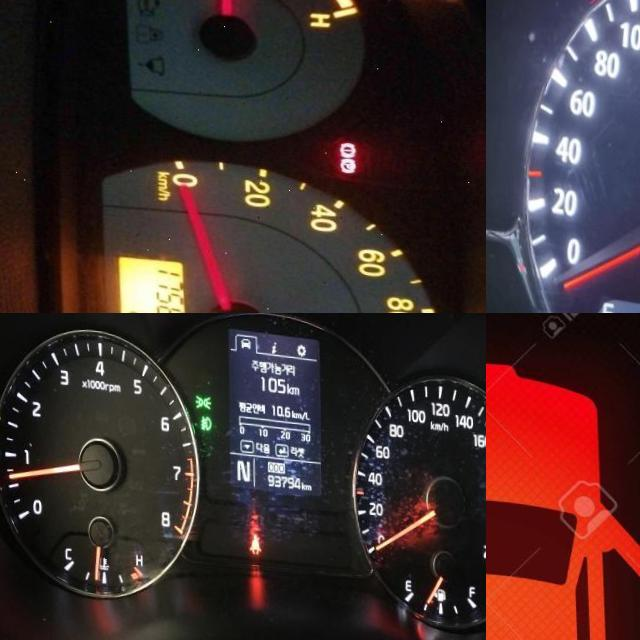FrontFogLight: (197, 410, 210, 428)
SideLamp: (192, 389, 210, 407)
